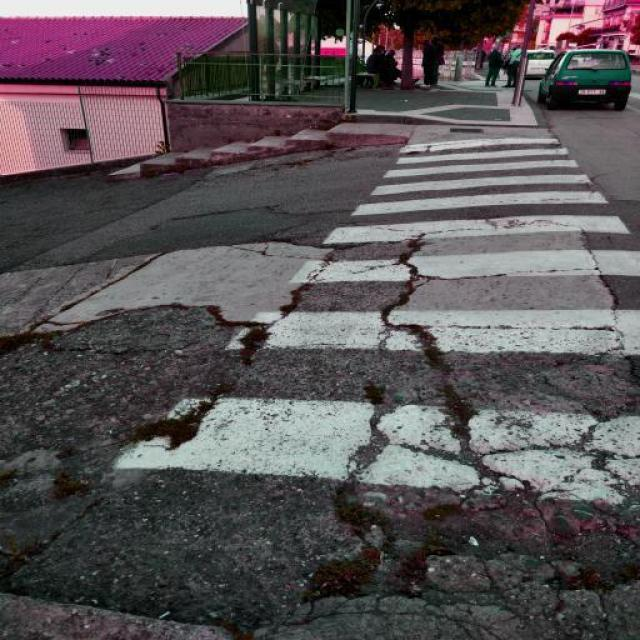faded_crosswalk: (110, 134, 639, 508)
